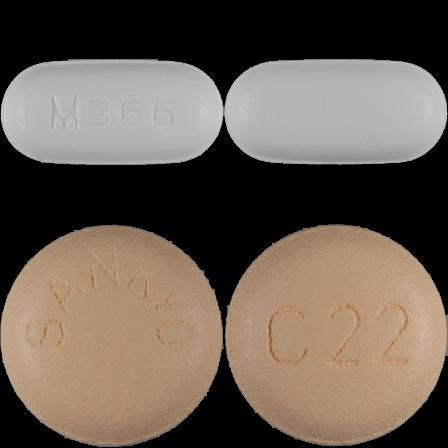54868-5167: (0, 0, 224, 224)
